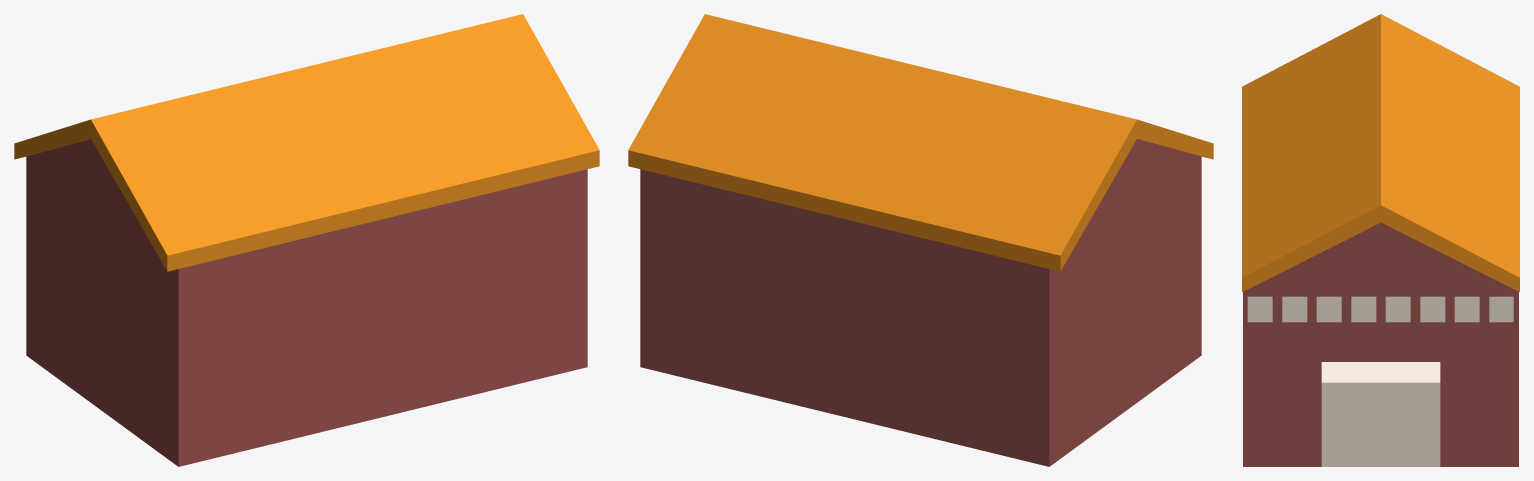
File: StorageBig.fbx
3 renders of one model, left to right at view 1: azimuth 30°, elevation 25°; view 2: azimuth 150°, elevation 25°; view 3: azimuth 270°, elevation 25°, orthographic. The views are drawn at different scales.
Parts seen in each view (by area): view 1: StorageBig; view 2: StorageBig; view 3: StorageBig.
Part boxes in pixels (x1=…): StorageBig: x1=14, y1=14, x2=599, y2=466; StorageBig: x1=628, y1=14, x2=1213, y2=466; StorageBig: x1=1242, y1=14, x2=1519, y2=466.
Bounding box in the file's own units: 143 × 90.83 × 85.65.
